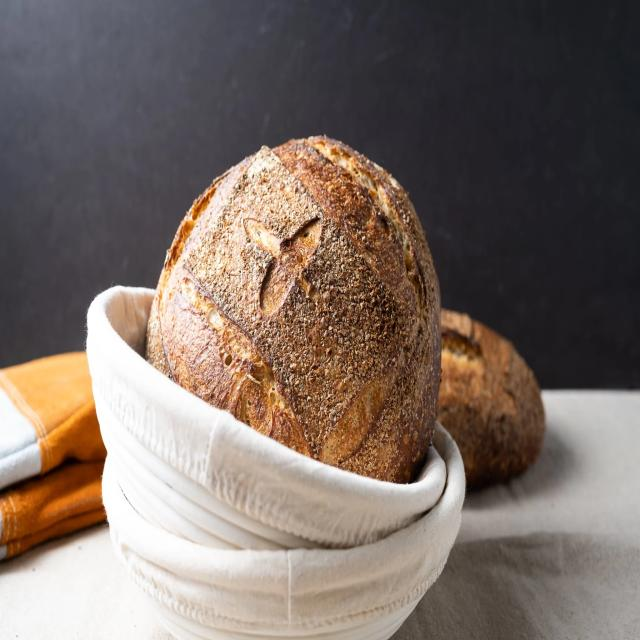Maltese-Bread: (147, 137, 439, 483), (437, 309, 545, 489)
